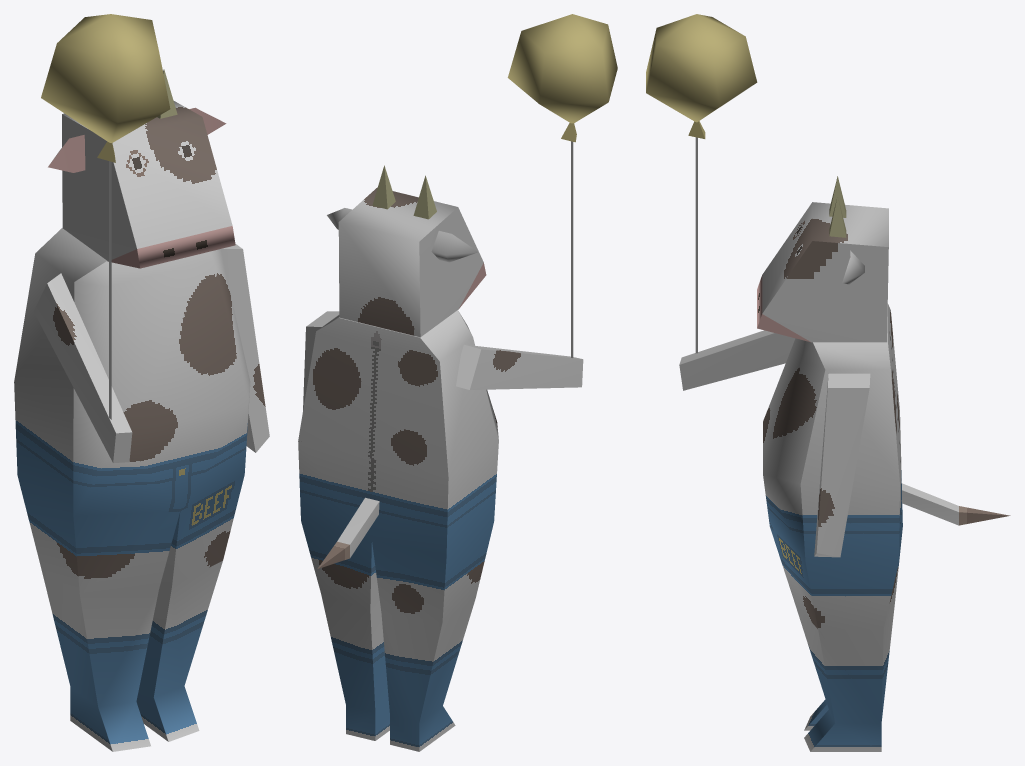
The model's file is 02db_Cow-Man.glb.
3 views of the same model, side by side, from view 1: azimuth 30°, elevation 25°; view 2: azimuth 150°, elevation 25°; view 3: azimuth 270°, elevation 25° (orthographic). The views are drawn at different scales.
Visible parts, largest first — view 1: part_0; view 2: part_0; view 3: part_0.
Boxes of the visible parts, left/top/right/bottom form: part_0: left=14, top=14, right=269, bottom=751; part_0: left=298, top=14, right=617, bottom=751; part_0: left=646, top=14, right=1010, bottom=751.
Bounding box in the file's own units: 0.8824 × 2.34 × 1.15.
Materials: 1 (1 with a texture image).
